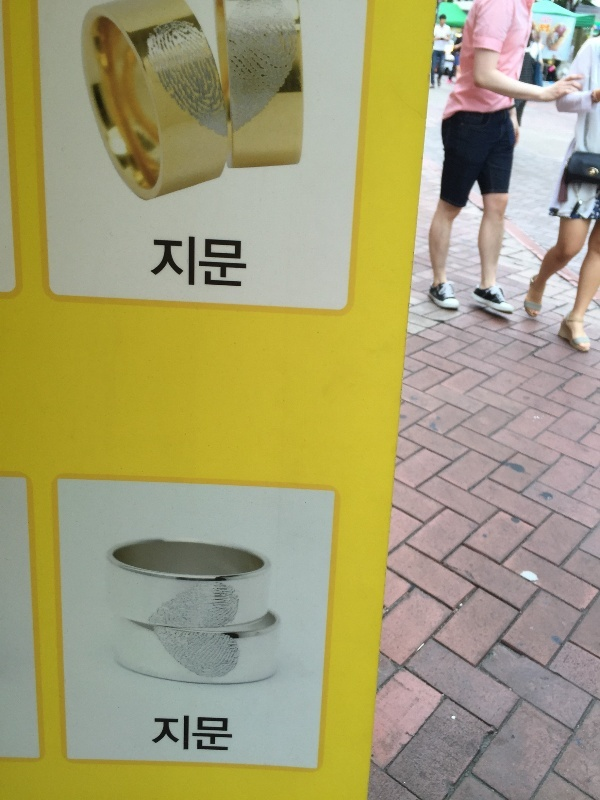text: (161, 236, 176, 287), (177, 236, 192, 287), (193, 236, 208, 287), (209, 236, 224, 287), (225, 236, 240, 287), (161, 717, 176, 753), (177, 717, 192, 753), (193, 717, 208, 753), (209, 717, 224, 753), (241, 236, 249, 287), (153, 236, 160, 287), (225, 717, 234, 753), (154, 717, 160, 753)
